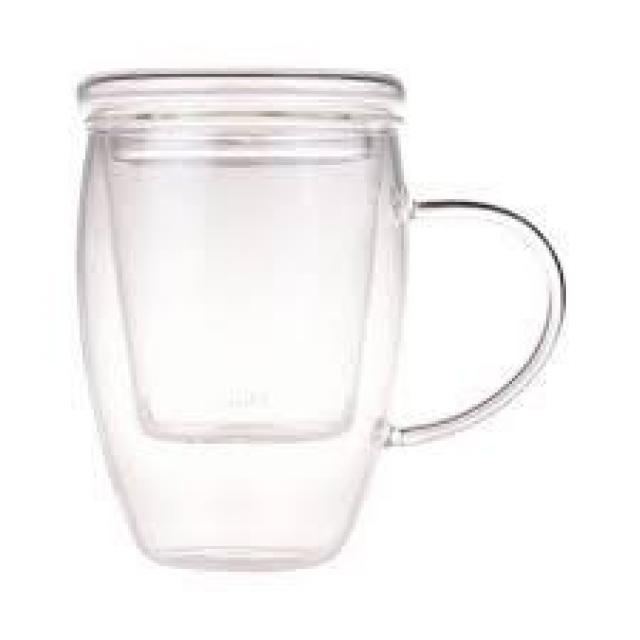non-organic waste: (68, 65, 566, 566)
